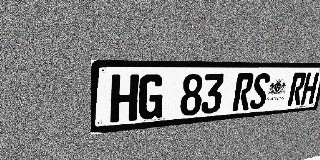3: (200, 73, 225, 114)
8: (179, 74, 205, 116)
G: (138, 74, 165, 120)
H: (110, 74, 139, 123), (300, 72, 319, 105)
R: (232, 73, 255, 111), (287, 73, 307, 106)
S: (249, 73, 271, 110)
